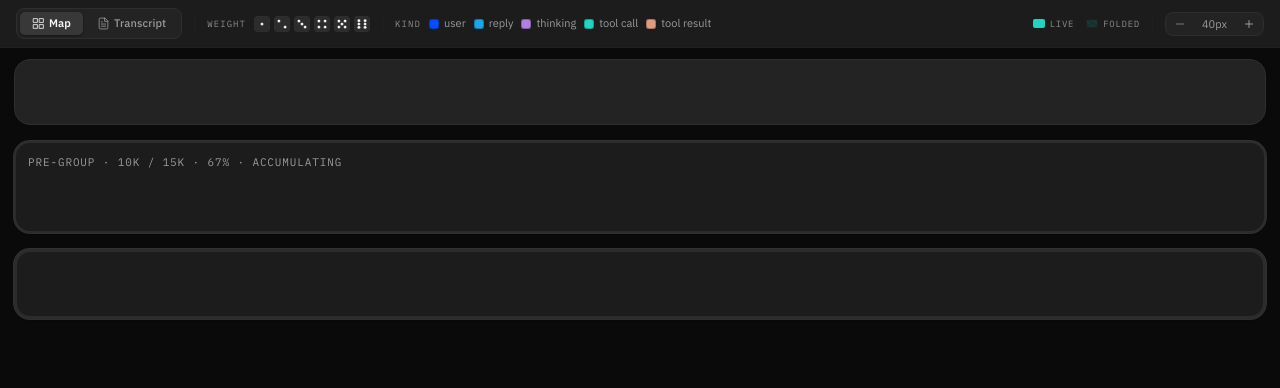
Test: ContextMap Pre-Group transcript › mirrors authoritative pre-group membership in transcript
Click the button "Transcript" at (132, 24), box [85,12,178,35]
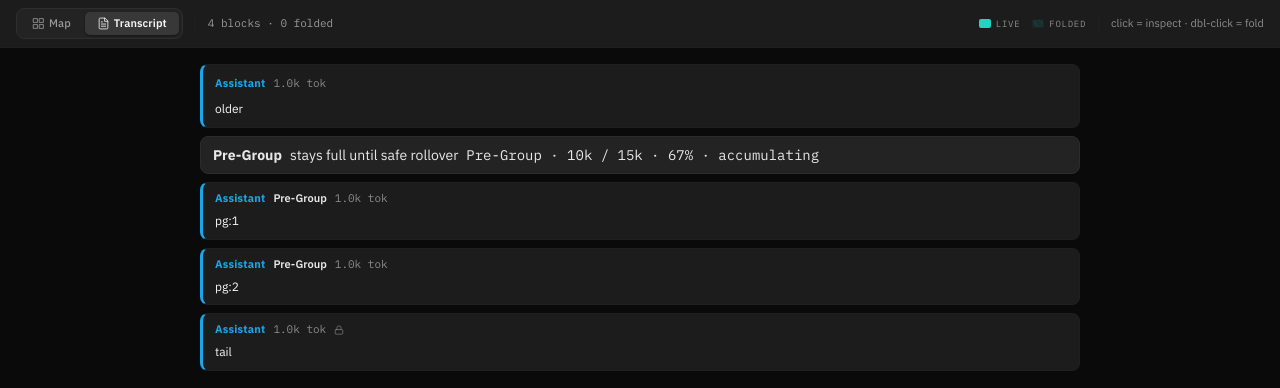
Result: the element "Pre-Group" is shown at [200,136,1080,174]
Result: the element labelled "Assistant Pre-Group 1.0k tok pg:1" is shown at [200,182,1080,240]
Result: the element labelled "Assistant Pre-Group 1.0k tok pg:2" is shown at [200,248,1080,305]
